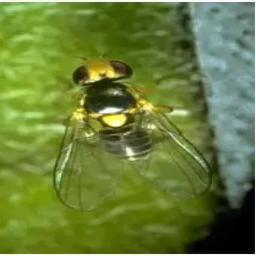liriomyza: (52, 56, 210, 211)
